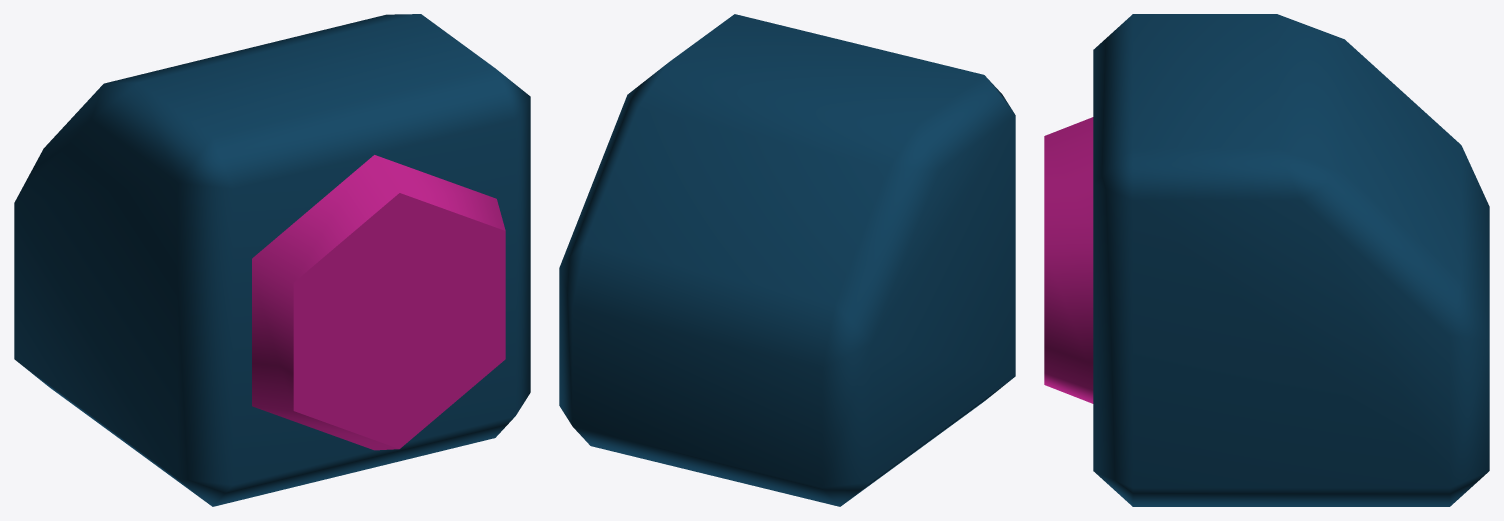
The model's file is SmallLight.FBX.
3 views of the same model, side by side, from view 1: azimuth 30°, elevation 25°; view 2: azimuth 150°, elevation 25°; view 3: azimuth 270°, elevation 25° (orthographic). The views are drawn at different scales.
Parts seen in each view (by area): view 1: Box009, Cylinder001; view 2: Box009; view 3: Box009, Cylinder001.
Part boxes in pixels (left/top/right/bottom): Box009: left=14, top=14, right=530, bottom=506; Cylinder001: left=252, top=155, right=505, bottom=450; Box009: left=559, top=14, right=1015, bottom=506; Box009: left=1093, top=14, right=1489, bottom=506; Cylinder001: left=1044, top=117, right=1093, bottom=403.
Size of the model in its own units: 3.94 by 3.94 by 4.42.
